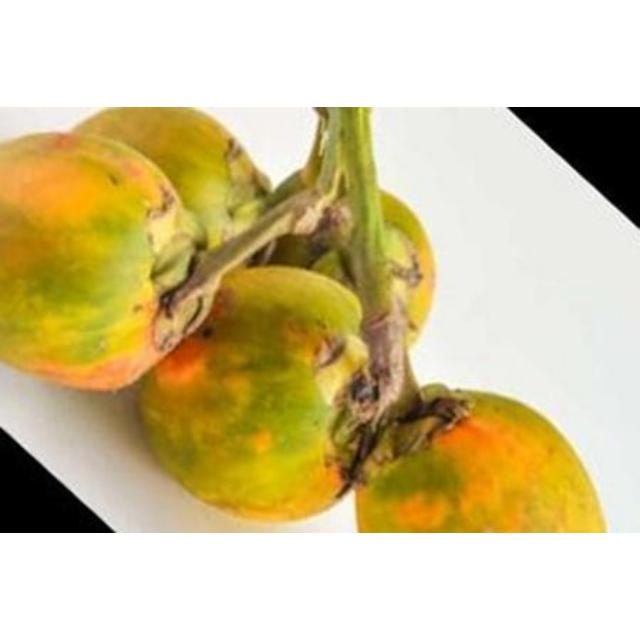good: (137, 266, 371, 522), (5, 138, 222, 386), (356, 388, 608, 532), (73, 107, 270, 265), (272, 185, 434, 352)
